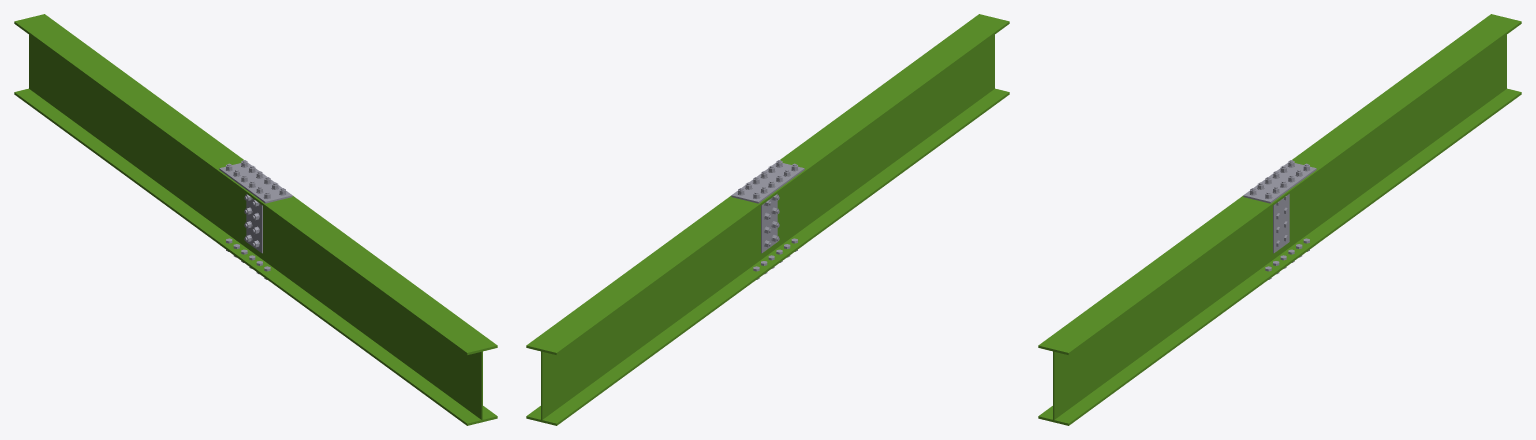
The model's file is Moment Splice GLB.glb.
3 renders of one model, left to right at view 1: azimuth 30°, elevation 25°; view 2: azimuth 150°, elevation 25°; view 3: azimuth 330°, elevation 25°, orthographic.
Parts seen in each view (by area): view 1: FamilyInstance Specialty Equipment BOLT 3/4"DIA A325 2" <124, FamilyInstance Structural Framing BEAM <1241790 BEAM<, FamilyInstance Structural Framing PLATE 155 <1242386 PLATE 1, FamilyInstance Structural Framing PLATE 67 <1242388 PLATE 67; view 2: FamilyInstance Specialty Equipment BOLT 3/4"DIA A325 2" <124, FamilyInstance Structural Framing BEAM <1241790 BEAM<, FamilyInstance Structural Framing PLATE 155 <1242386 PLATE 1, FamilyInstance Structural Framing PLATE 67 <1242388 PLATE 67; view 3: FamilyInstance Specialty Equipment BOLT 3/4"DIA A325 2" <124, FamilyInstance Structural Framing BEAM <1241790 BEAM<, FamilyInstance Structural Framing PLATE 155 <1242386 PLATE 1, FamilyInstance Structural Framing PLATE 67 <1242389 PLATE 67.
Part boxes in pixels (left/top/right/bottom): FamilyInstance Specialty Equipment BOLT 3/4"DIA A325 2" <124: left=225, top=160, right=497, bottom=425; FamilyInstance Structural Framing BEAM <1241790 BEAM<: left=14, top=14, right=255, bottom=259; FamilyInstance Structural Framing PLATE 155 <1242386 PLATE 1: left=219, top=163, right=292, bottom=203; FamilyInstance Structural Framing PLATE 67 <1242388 PLATE 67: left=246, top=194, right=262, bottom=253; FamilyInstance Specialty Equipment BOLT 3/4"DIA A325 2" <124: left=737, top=14, right=1009, bottom=279; FamilyInstance Structural Framing BEAM <1241790 BEAM<: left=526, top=187, right=783, bottom=425; FamilyInstance Structural Framing PLATE 155 <1242386 PLATE 1: left=731, top=163, right=804, bottom=203; FamilyInstance Structural Framing PLATE 67 <1242388 PLATE 67: left=761, top=194, right=777, bottom=253; FamilyInstance Specialty Equipment BOLT 3/4"DIA A325 2" <124: left=1038, top=160, right=1310, bottom=425; FamilyInstance Structural Framing BEAM <1241790 BEAM<: left=1280, top=14, right=1521, bottom=259; FamilyInstance Structural Framing PLATE 155 <1242386 PLATE 1: left=1243, top=163, right=1316, bottom=203; FamilyInstance Structural Framing PLATE 67 <1242389 PLATE 67: left=1273, top=194, right=1289, bottom=253.
Bounding box in the file's own units: 7 × 19 × 180.
